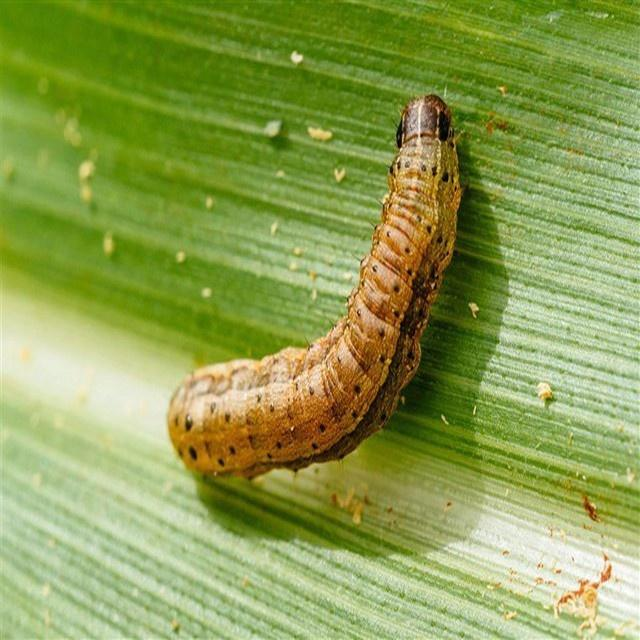Plaga: (164, 89, 465, 485)
